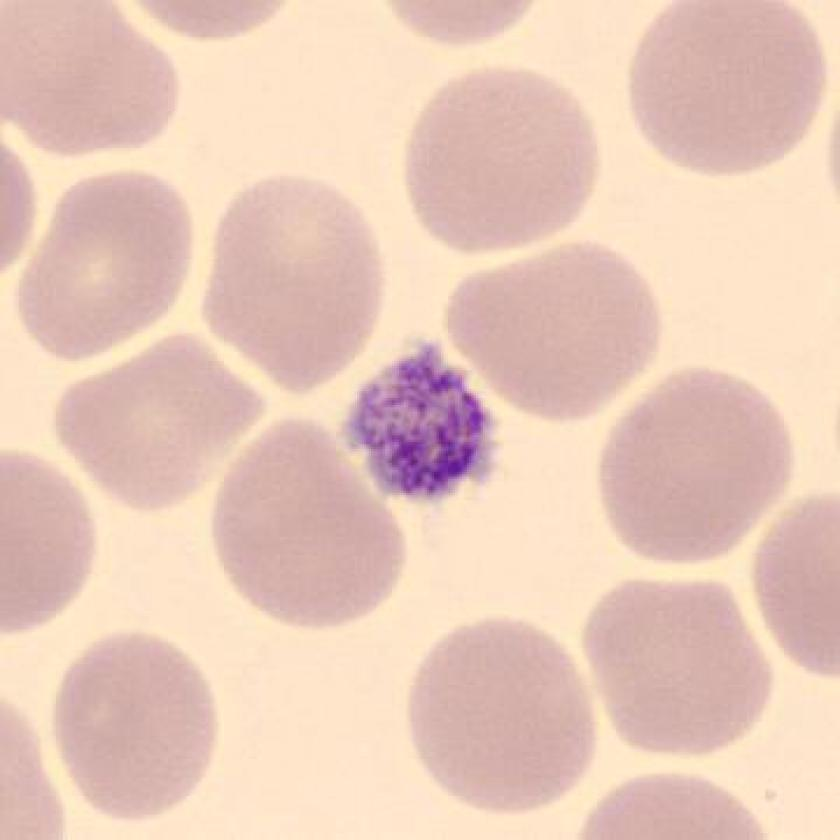platelets: (332, 327, 512, 524)
